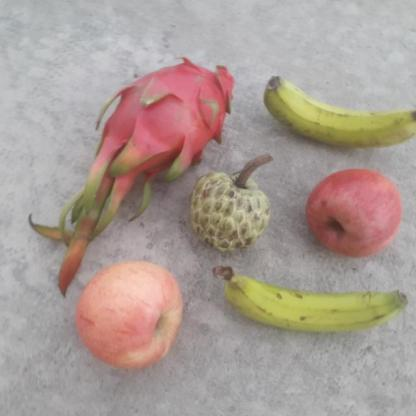annona: (184, 154, 276, 254)
apple: (69, 258, 188, 375), (302, 164, 402, 263)
banana: (208, 263, 416, 332), (260, 72, 416, 152)
pitaya: (97, 53, 238, 183)
